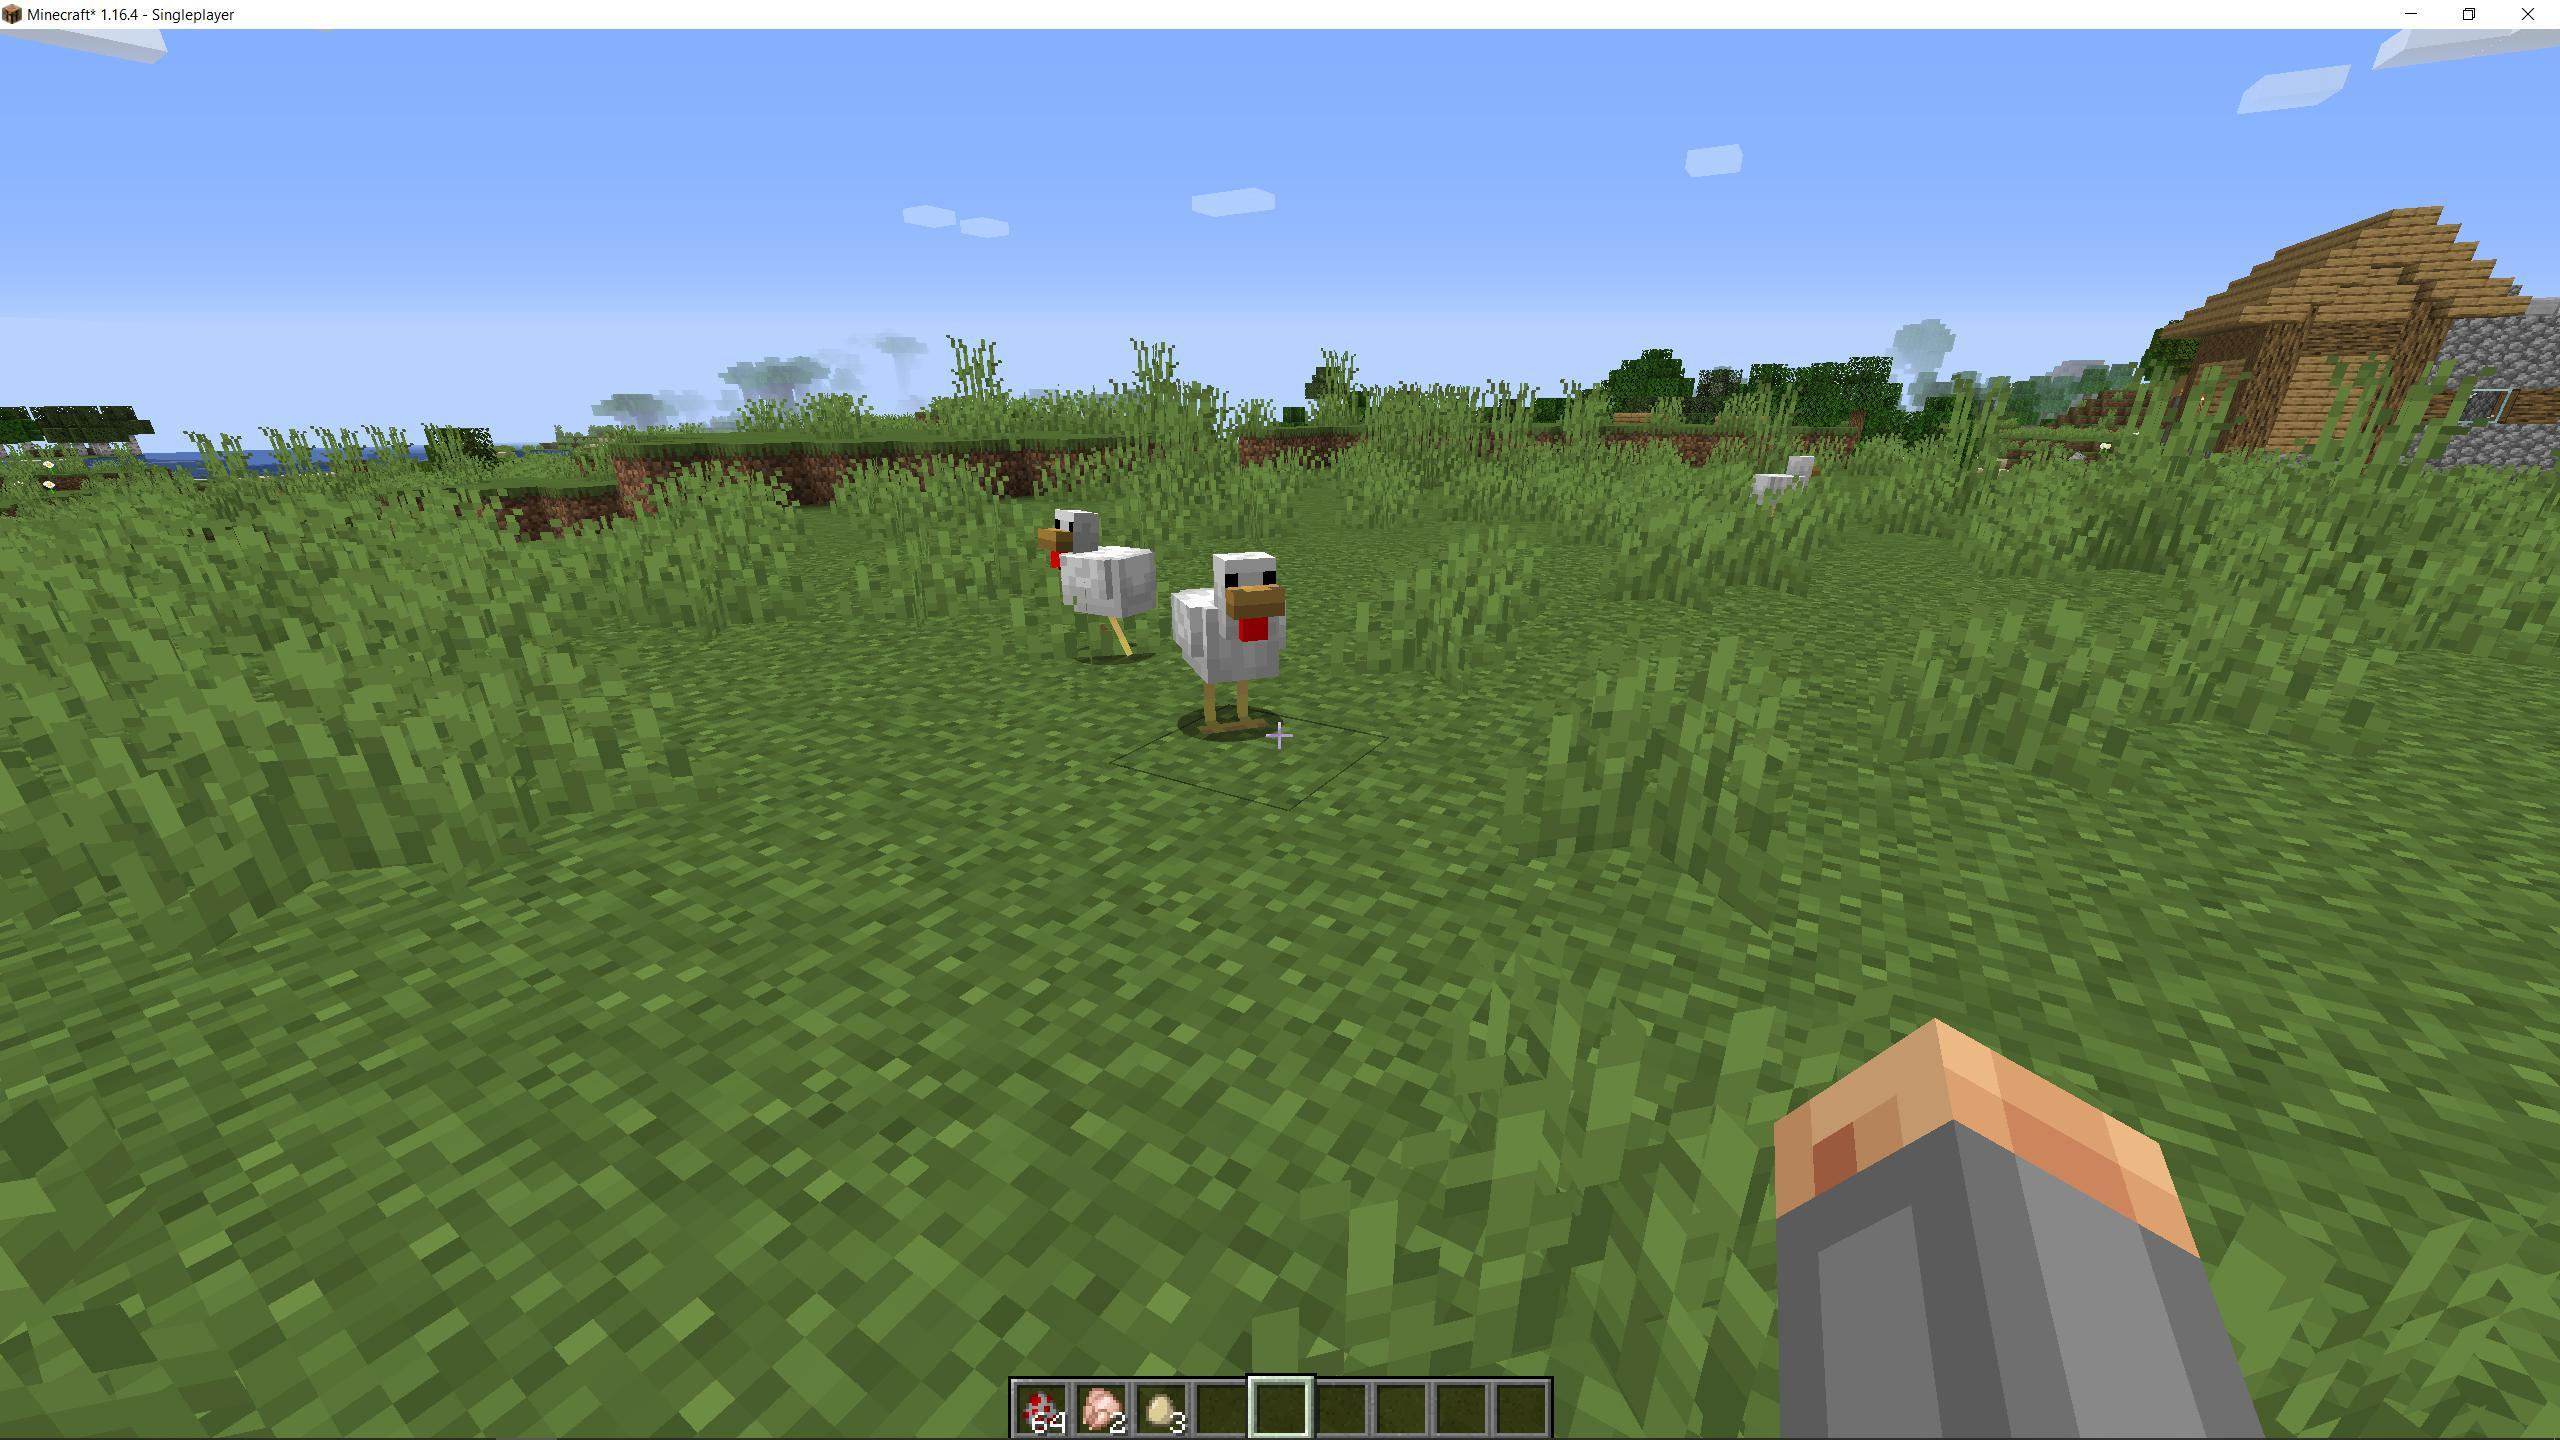chicken: (1175, 556, 1299, 726), (1034, 496, 1157, 666), (1751, 448, 1836, 547)
